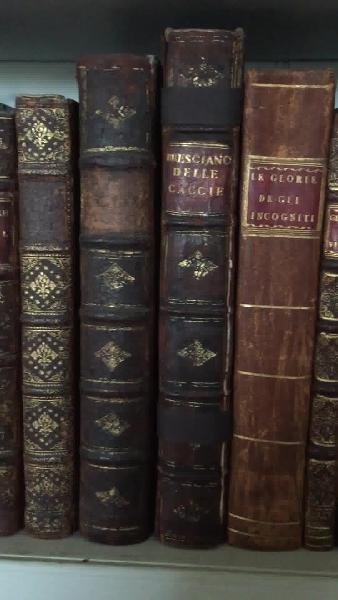Aa6-30: (13, 97, 88, 544)
Aa6-31: (73, 50, 158, 538)
Aa6-32: (155, 24, 238, 545)
Aa6-33: (240, 60, 318, 548)
